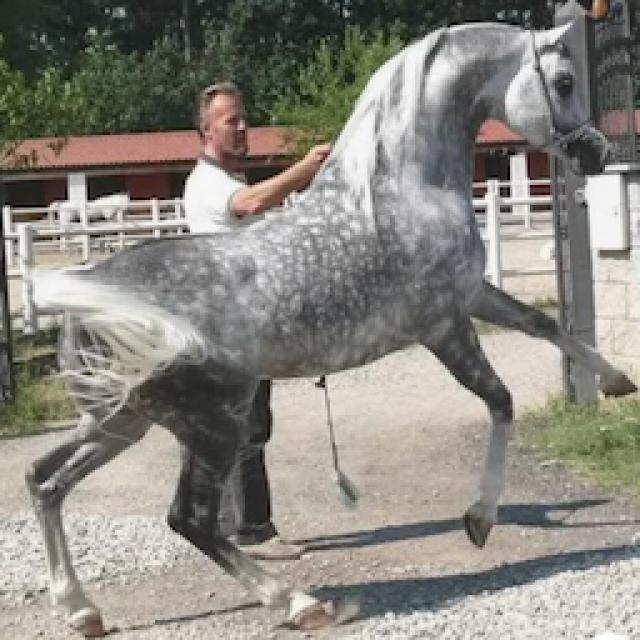Horse: (15, 0, 638, 638)
